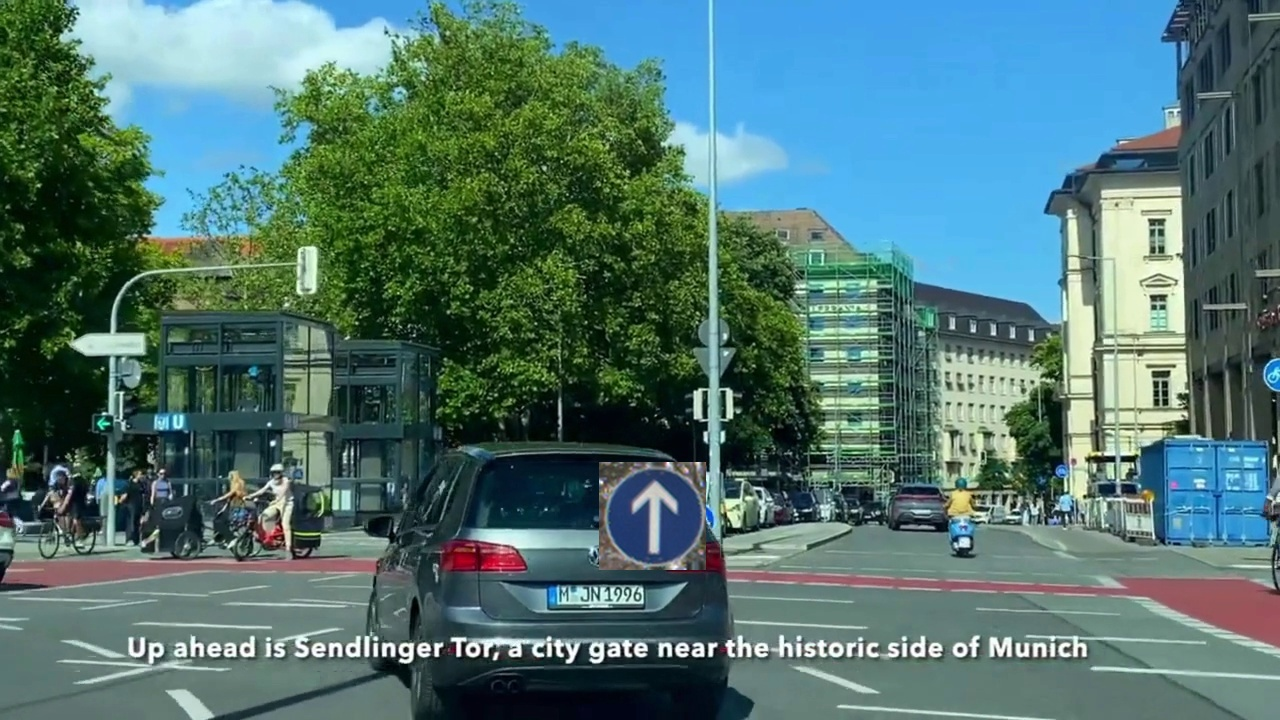Ahead only: (599, 462, 706, 570)
